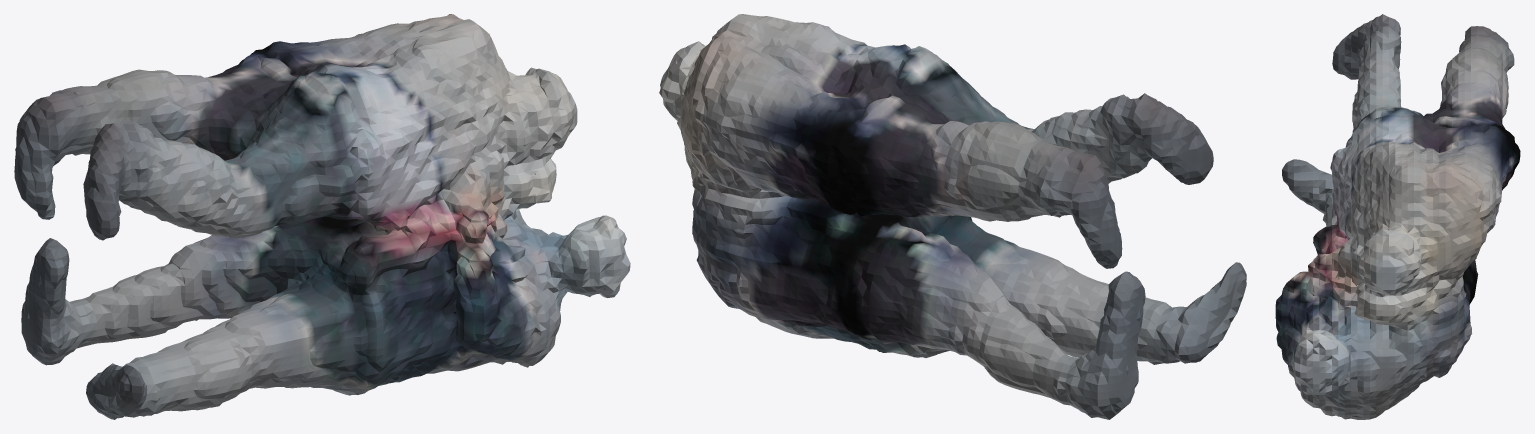
The model's file is IMAGEM_FINAL_3D.glb.
3 renders of one model, left to right at view 1: azimuth 30°, elevation 25°; view 2: azimuth 150°, elevation 25°; view 3: azimuth 270°, elevation 25°, orthographic. The views are drawn at different scales.
Parts seen in each view (by area): view 1: world; view 2: world; view 3: world.
Part boxes in pixels (left/top/right/bottom): world: left=14, top=14, right=630, bottom=419; world: left=659, top=14, right=1246, bottom=419; world: left=1275, top=14, right=1520, bottom=419.
Bounding box in the file's own units: 1.04 × 0.6185 × 0.5315.
